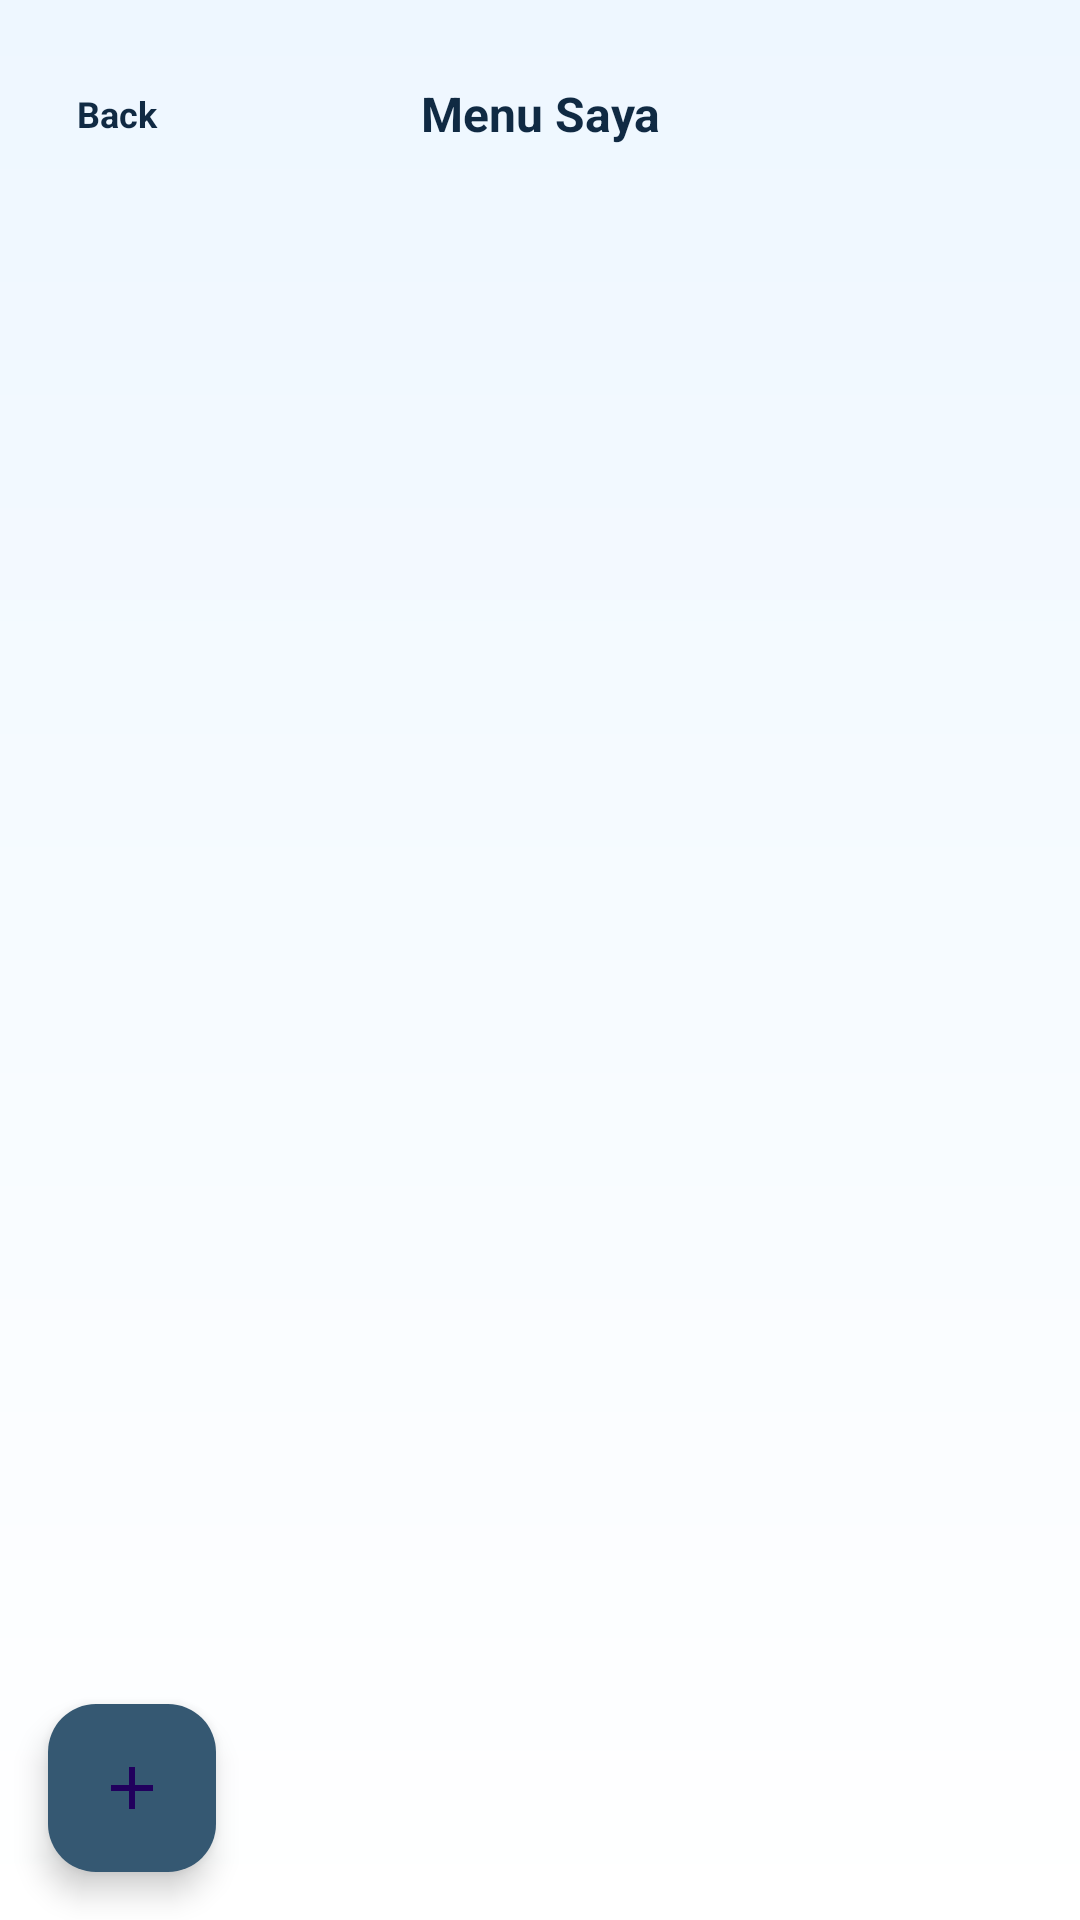

Icons on this 1080x1920 Android screen, each with its box as (x1, y1, x2, y2):
plus: (48, 1704, 216, 1872)
